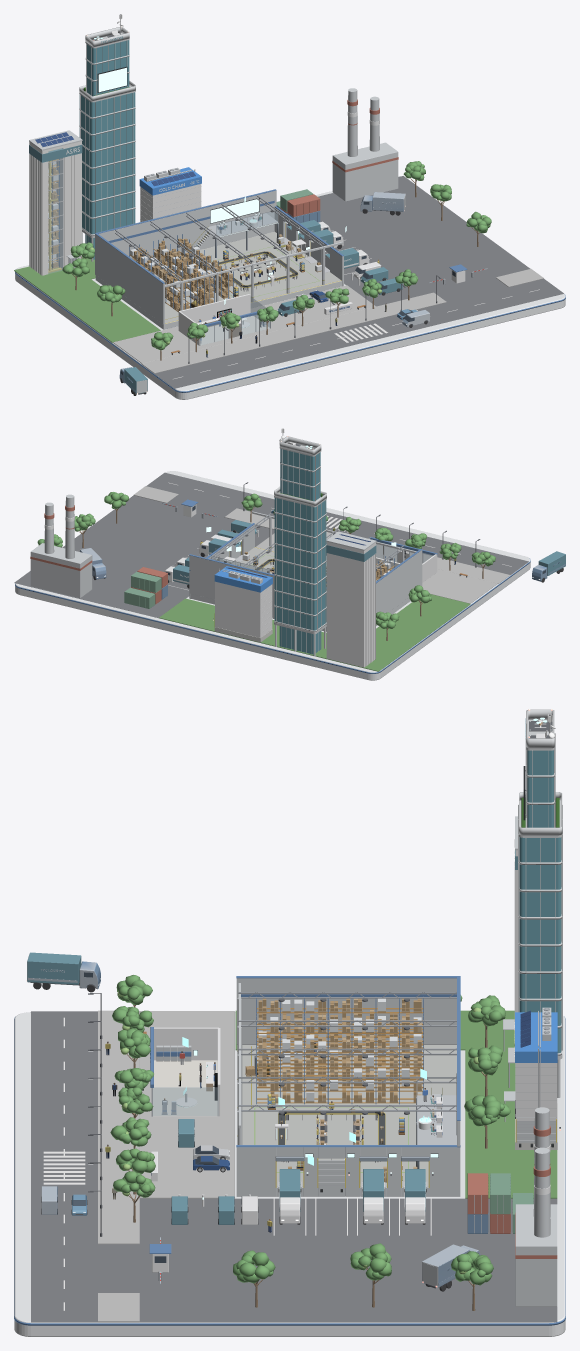
The model's file is smart_logistics.glb.
3 renders of one model, top to bottom at view 1: azimuth 30°, elevation 25°; view 2: azimuth 150°, elevation 25°; view 3: azimuth 270°, elevation 25°, orthographic. The views are drawn at different scales.
Parts seen in each view (by area): view 1: bake-static_site, bake-static_building, vbake-static_site, vbake-static_building, bake-hot-pos, bake-hot-transfer-delivery, glass-static_site-glass, glass-hot-pos-glass, haul1, vbake-hot-smart-scan, bake-hot-route-optimization, glass-hot-route-optimization-glass (+3 smaller); view 2: bake-static_site, vbake-static_site, bake-static_building, bake-hot-transfer-delivery, haul0, bake-hot-pos, vbake-static_building, haul1; view 3: bake-static_site, bake-static_building, vbake-static_site, vbake-static_building, bake-hot-pos, bake-hot-transfer-delivery, haul0, vbake-hot-transfer-delivery, glass-hot-pos-glass, bake-hot-route-optimization, haul1, vbake-hot-smart-scan (+1 smaller).
Part boxes in pixels (bbox=[...]): bake-static_site: bbox=[14, 27, 565, 399]; bake-static_building: bbox=[95, 189, 343, 329]; vbake-static_site: bbox=[30, 14, 539, 379]; vbake-static_building: bbox=[115, 195, 324, 319]; bake-hot-pos: bbox=[178, 294, 269, 345]; bake-hot-transfer-delivery: bbox=[284, 220, 467, 283]; glass-static_site-glass: bbox=[48, 148, 62, 273]; glass-hot-pos-glass: bbox=[200, 297, 270, 345]; haul1: bbox=[360, 192, 405, 215]; vbake-hot-smart-scan: bbox=[219, 251, 298, 291]; bake-hot-route-optimization: bbox=[204, 198, 277, 237]; glass-hot-route-optimization-glass: bbox=[216, 211, 277, 236]; bake-static_site: bbox=[14, 436, 530, 680]; vbake-static_site: bbox=[37, 428, 511, 666]; bake-static_building: bbox=[189, 511, 422, 631]; bake-hot-transfer-delivery: bbox=[164, 499, 242, 584]; haul0: bbox=[532, 551, 565, 582]; bake-hot-pos: bbox=[369, 537, 437, 582]; vbake-static_building: bbox=[215, 517, 400, 586]; haul1: bbox=[80, 548, 106, 579]; bake-static_site: bbox=[14, 709, 565, 1336]; bake-static_building: bbox=[236, 976, 460, 1196]; vbake-static_site: bbox=[43, 714, 562, 1310]; vbake-static_building: bbox=[237, 992, 456, 1182]; bake-hot-pos: bbox=[150, 1027, 220, 1116]; bake-hot-transfer-delivery: bbox=[149, 1160, 427, 1272]; haul0: bbox=[26, 952, 100, 992]; vbake-hot-transfer-delivery: bbox=[158, 1153, 438, 1280]; glass-hot-pos-glass: bbox=[153, 1087, 218, 1115]; bake-hot-route-optimization: bbox=[417, 1073, 456, 1144]; haul1: bbox=[422, 1244, 480, 1291]; vbake-hot-smart-scan: bbox=[275, 1101, 385, 1162].
Size of the model in its own units: 96.86 by 52.26 by 66.08.
